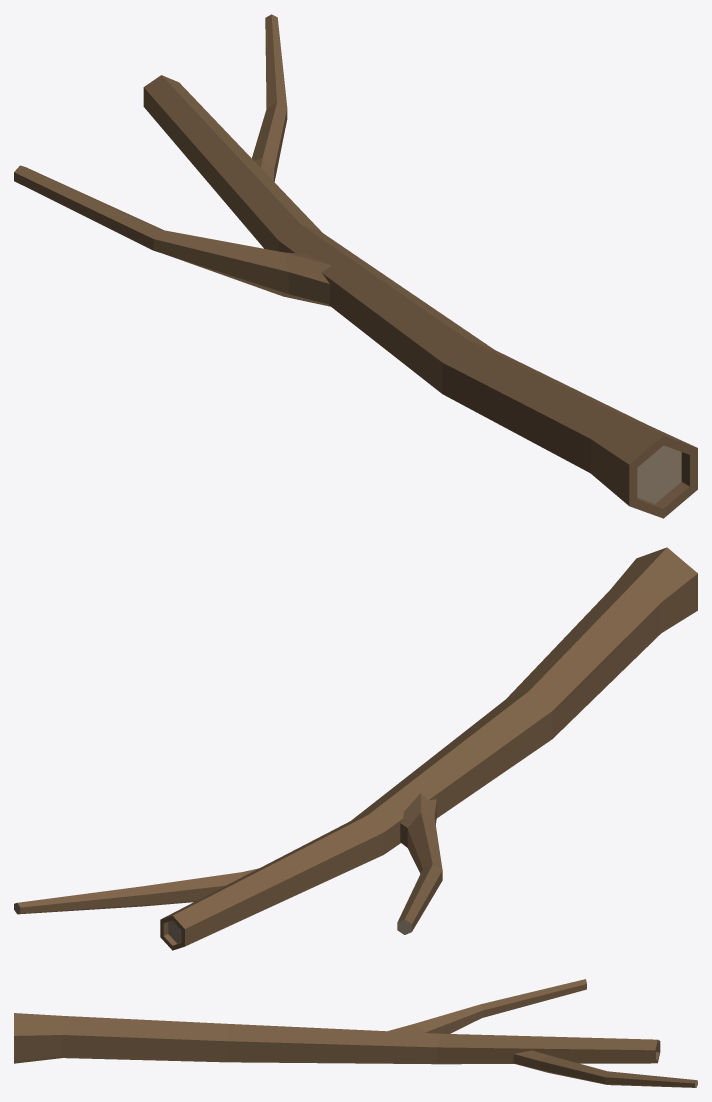
Rendered from NHP_Branch_A1_01.fbx.
3 renders of one model, top to bottom at view 1: azimuth 30°, elevation 25°; view 2: azimuth 150°, elevation 25°; view 3: azimuth 270°, elevation 25°, orthographic. The views are drawn at different scales.
Parts seen in each view (by area): view 1: NHP_Branch_A1_01; view 2: NHP_Branch_A1_01; view 3: NHP_Branch_A1_01.
Boxes of the visible parts, left/top/right/bottom form: NHP_Branch_A1_01: left=14, top=14, right=697, bottom=518; NHP_Branch_A1_01: left=14, top=547, right=697, bottom=950; NHP_Branch_A1_01: left=14, top=979, right=697, bottom=1087.
Bounding box in the file's own units: 0.5864 × 0.1437 × 1.61.
